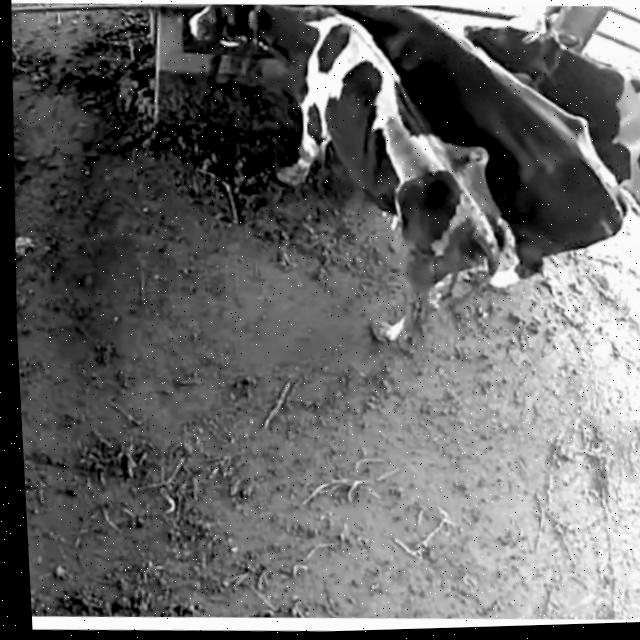drink: (180, 0, 338, 89), (284, 0, 438, 68)
